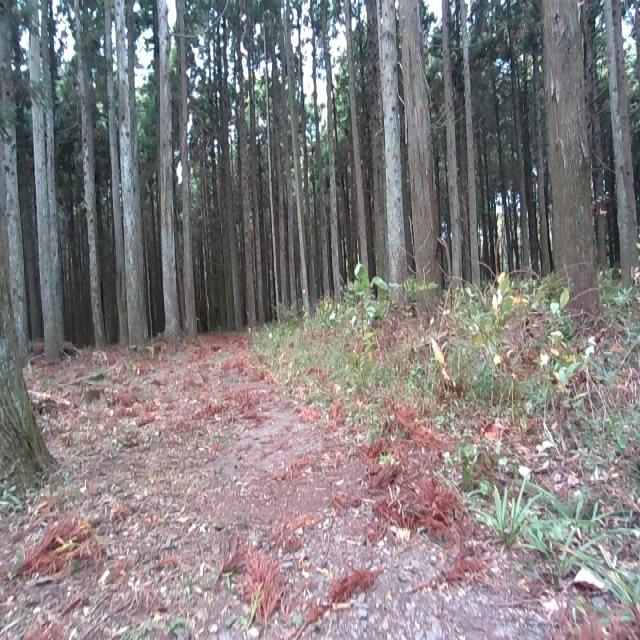bush: (350, 235, 620, 517)
tree: (375, 0, 440, 284), (540, 0, 596, 310), (25, 0, 67, 348), (0, 176, 49, 470), (159, 0, 198, 337), (114, 0, 146, 341), (0, 0, 28, 348)
